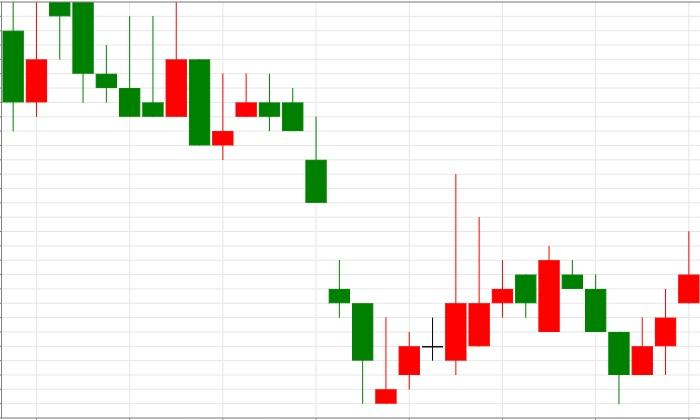hanging_man_fall: (2, 1, 71, 131)
inverse_hammer_rise: (258, 74, 398, 405), (72, 1, 165, 117)
three_black_crows_fall: (375, 174, 629, 405), (2, 1, 141, 131)
three_white_soldiers_rise: (538, 231, 700, 405)
